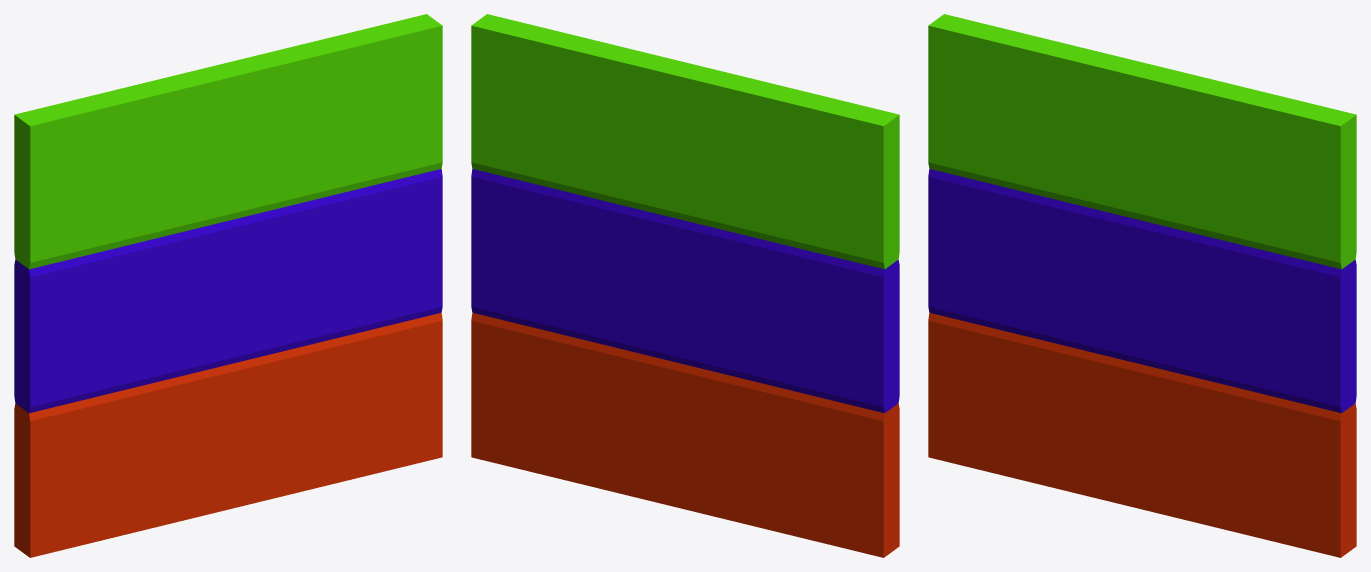
The model's file is Shed_Wall_High.fbx.
3 renders of one model, left to right at view 1: azimuth 30°, elevation 25°; view 2: azimuth 150°, elevation 25°; view 3: azimuth 330°, elevation 25°, orthographic.
Visible parts, largest first — view 1: Shed_Wall_High; view 2: Shed_Wall_High; view 3: Shed_Wall_High.
Boxes of the visible parts, x1,y1,x2,y2 form: Shed_Wall_High: [14, 14, 442, 557]; Shed_Wall_High: [471, 14, 899, 557]; Shed_Wall_High: [928, 14, 1356, 557].
Bounding box in the file's own units: 200 × 200 × 13.35.
